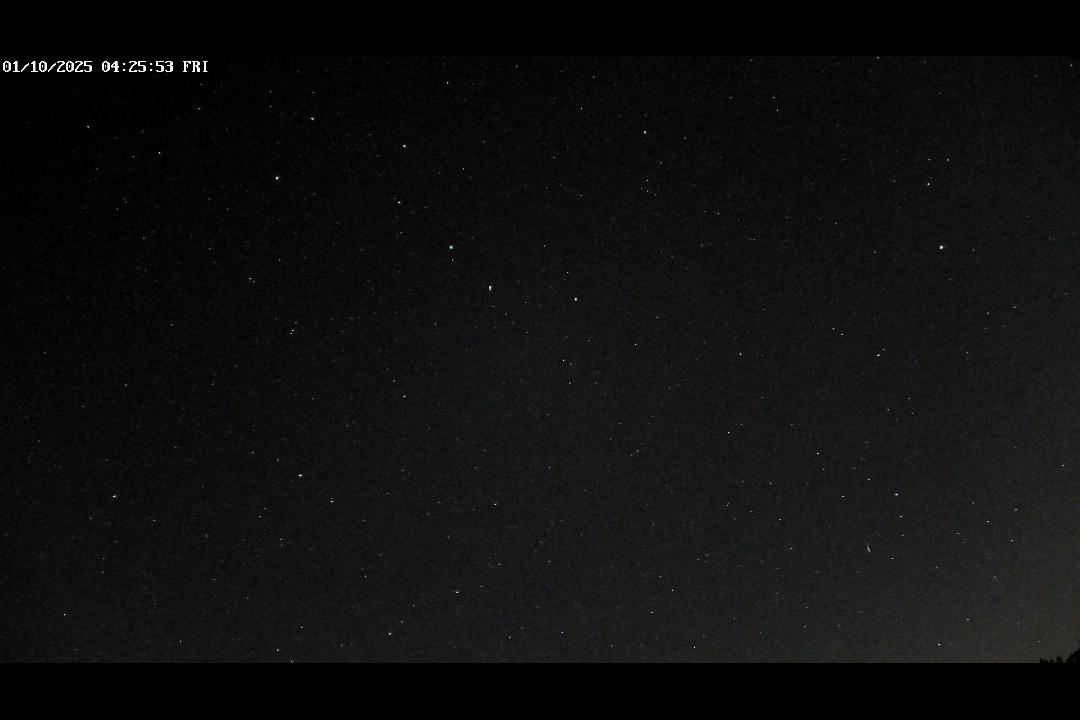meteorite: (861, 538, 876, 555)
